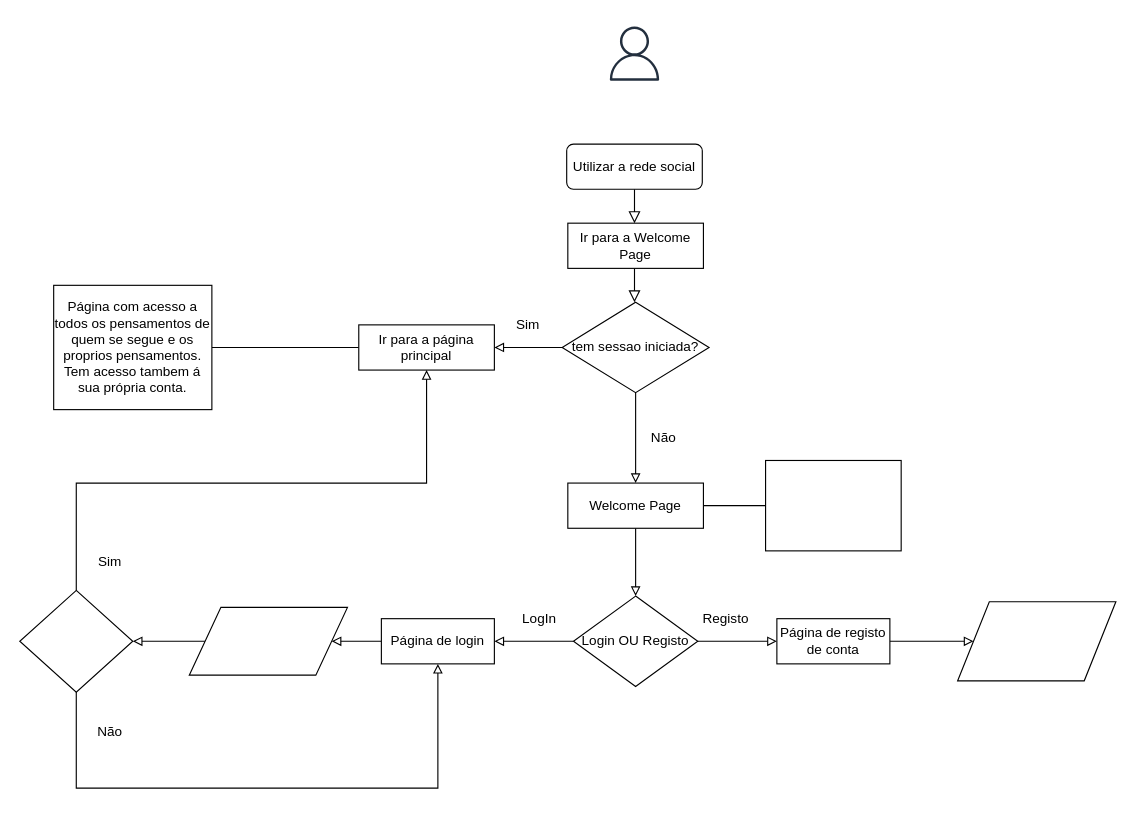
The diagram is 1136 pixels wide and 817 high, and some of its shapes have lost their labels. Here are the shapes that lost their labels. From the top down, the box of each, then its label:
(599, 19, 668, 88): User
(764, 459, 901, 551): Visualmente atrativa, com informacoes basicas sobre a rede social
(19, 589, 133, 692): Sucesso no Login?
(188, 606, 347, 675): username palavra-passe
(957, 601, 1116, 681): username palavrapasse email
